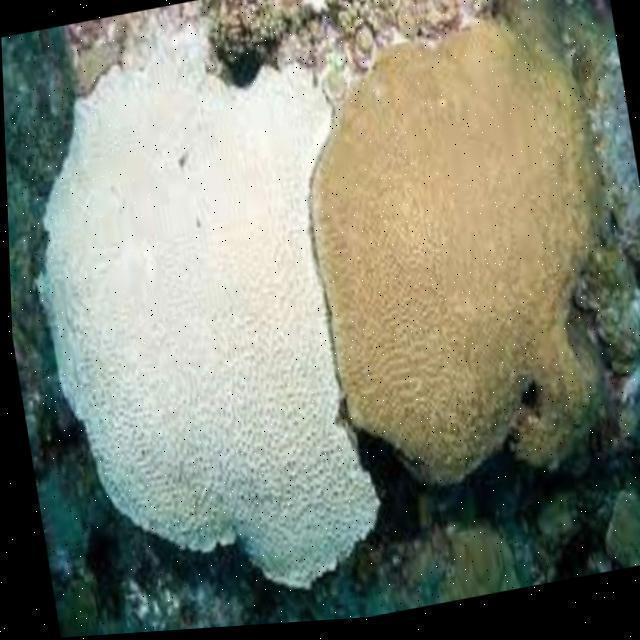Bleached Coral: (41, 3, 379, 588)
Healthy Coral: (313, 3, 639, 484)
